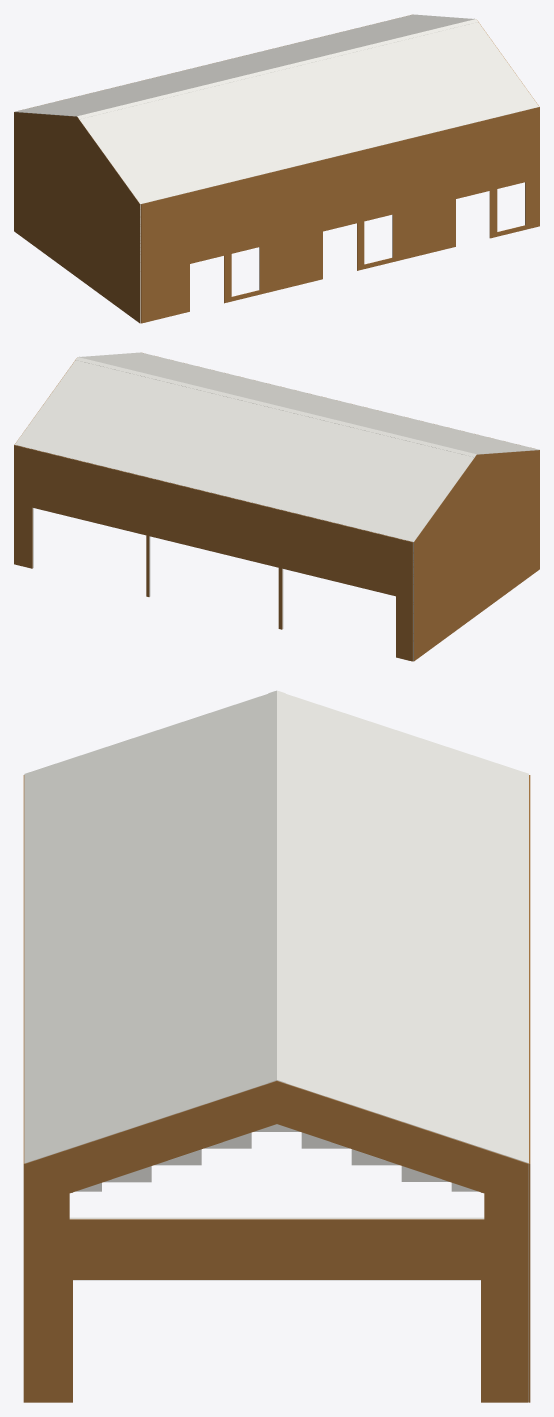
Rendered from Nave1_paneles_PIR_blanco.dae.
3 renders of one model, top to bottom at view 1: azimuth 30°, elevation 25°; view 2: azimuth 150°, elevation 25°; view 3: azimuth 270°, elevation 25°, orthographic. The views are drawn at different scales.
Parts seen in each view (by area): view 1: Cara limpia · lateral sur, Cara limpia · fondo, PR-S · P01, PR-S · P07, PR-S · P05, PR-S · P09, PR-S · P11, PR-S · P13, PR-S · P15, PR-S · P03, PR-S · P17, PR-S · P18 (+28 smaller); view 2: Cara limpia · lateral norte, Cara limpia · fondo, PR-N · P01, PR-N · P07, PR-N · P03, PR-N · P05, PR-N · P10, PR-N · P14, PR-N · P18, PR-N · P04, PR-N · P08, PR-N · P09 (+28 smaller); view 3: Cara limpia · frente, Cumbrera, PR-S · P05, PR-S · P13, PR-S · P16, PR-S · P02, PR-S · P08, PR-S · P10, PR-S · P03, PR-S · P07, PR-S · P11, PR-S · P15 (+30 smaller).
Boxes of the visible parts, x1,y1,x2,y2 form: Cara limpia · lateral sur: [141, 107, 539, 323]; Cara limpia · fondo: [14, 112, 140, 323]; PR-S · P01: [79, 114, 161, 204]; PR-S · P07: [209, 82, 291, 172]; PR-S · P05: [166, 93, 248, 182]; PR-S · P09: [252, 72, 334, 161]; PR-S · P11: [296, 61, 377, 151]; PR-S · P13: [339, 51, 421, 140]; PR-S · P15: [382, 40, 464, 130]; PR-S · P03: [123, 103, 204, 193]; PR-S · P17: [426, 30, 507, 119]; PR-S · P18: [447, 24, 529, 114]; Cara limpia · lateral norte: [14, 445, 412, 661]; Cara limpia · fondo: [413, 450, 539, 661]; PR-N · P01: [392, 452, 474, 542]; PR-N · P07: [262, 420, 344, 510]; PR-N · P03: [349, 441, 430, 531]; PR-N · P05: [305, 431, 387, 520]; PR-N · P10: [197, 404, 279, 494]; PR-N · P14: [111, 383, 192, 473]; PR-N · P18: [24, 362, 106, 452]; PR-N · P04: [327, 436, 409, 526]; PR-N · P08: [241, 415, 322, 504]; PR-N · P09: [219, 410, 301, 499]; Cara limpia · frente: [25, 1081, 528, 1402]; Cumbrera: [268, 690, 285, 1082]; PR-S · P05: [24, 778, 268, 879]; PR-S · P13: [24, 947, 268, 1048]; PR-S · P16: [24, 1010, 268, 1111]; PR-S · P02: [24, 715, 268, 815]; PR-S · P08: [24, 842, 268, 942]; PR-S · P10: [24, 884, 268, 984]; PR-S · P03: [24, 736, 268, 837]; PR-S · P07: [24, 820, 268, 921]; PR-S · P11: [24, 905, 268, 1005]; PR-S · P15: [24, 989, 268, 1090].
Bounding box in the file's own units: 21.05 × 11.56 × 8.11.
